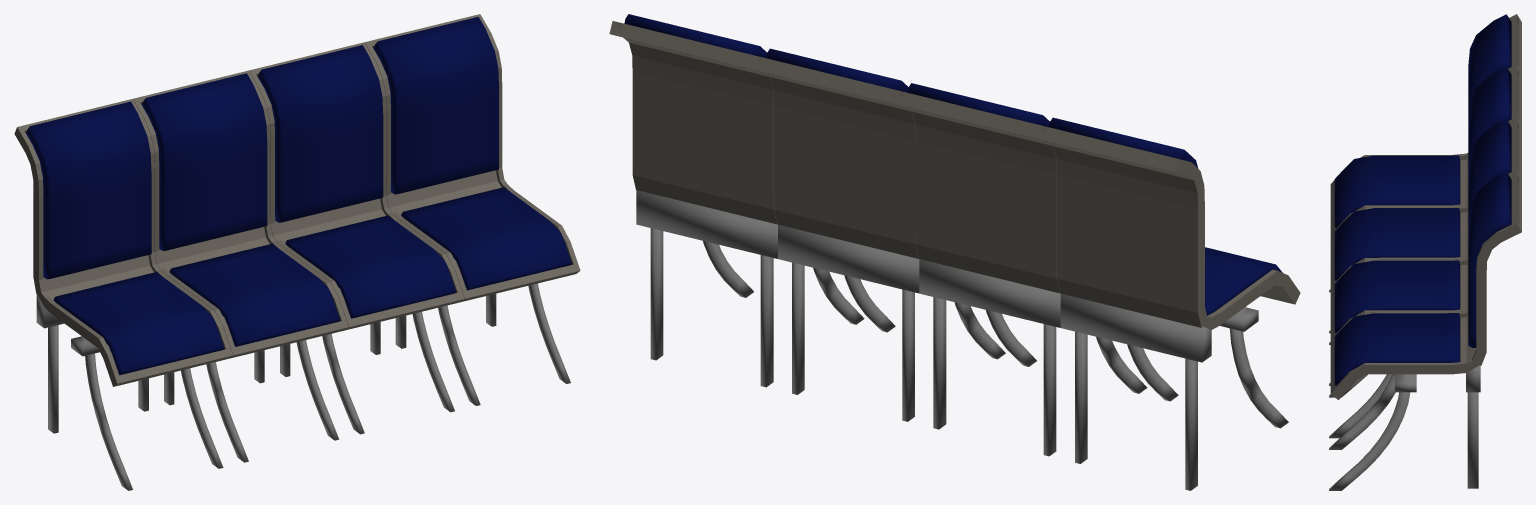
The model's file is Hallway Seats 4.fbx.
3 views of the same model, side by side, from view 1: azimuth 30°, elevation 25°; view 2: azimuth 150°, elevation 25°; view 3: azimuth 270°, elevation 25° (orthographic). The views are drawn at different scales.
Visible parts, largest first — view 1: Hallway Seats 4; view 2: Hallway Seats 4; view 3: Hallway Seats 4.
Boxes of the visible parts, x1,y1,x2,y2 form: Hallway Seats 4: (14, 14, 580, 490); Hallway Seats 4: (609, 14, 1300, 490); Hallway Seats 4: (1329, 14, 1521, 490).
Bounding box in the file's own units: 138 × 84.05 × 53.51.
